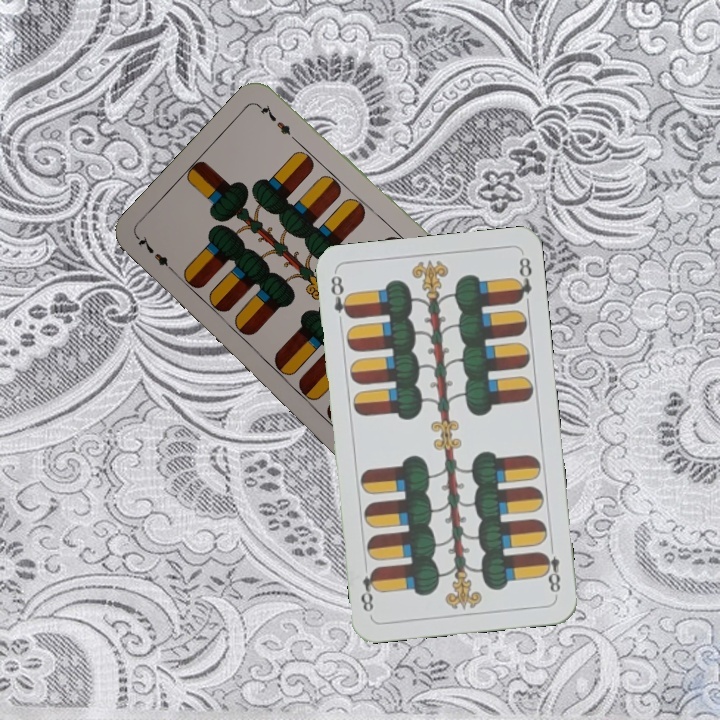E7: (133, 232, 181, 278)
E8: (538, 539, 563, 599), (326, 271, 354, 321)
